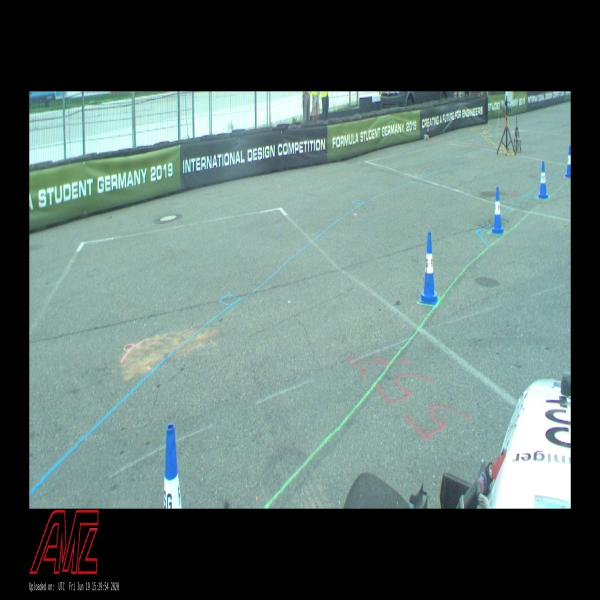blue_cone: (164, 423, 182, 508), (419, 231, 438, 304), (492, 187, 503, 234), (538, 161, 548, 198), (566, 146, 570, 178)
